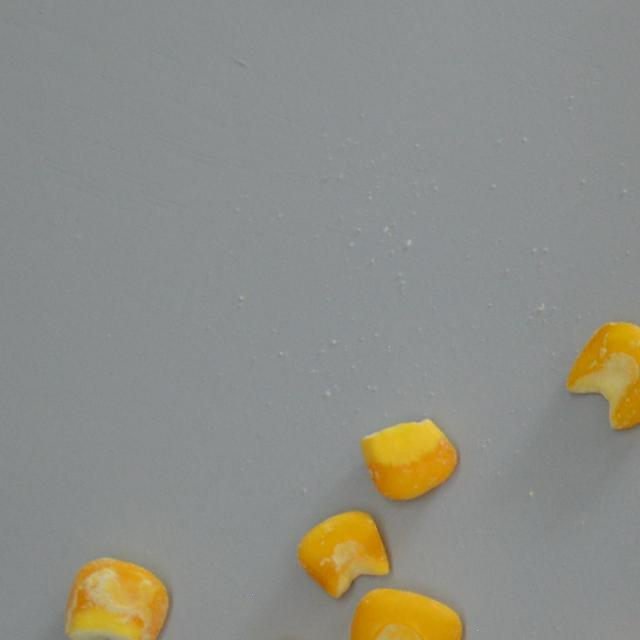no_canjicado: (358, 416, 460, 502), (346, 586, 464, 640)
pelicula: (63, 554, 172, 640), (565, 320, 640, 432), (296, 510, 390, 598)
